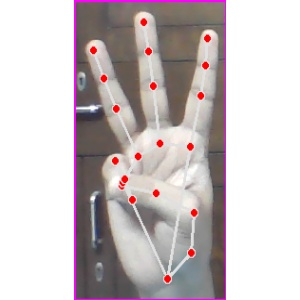W: (72, 1, 228, 300)
